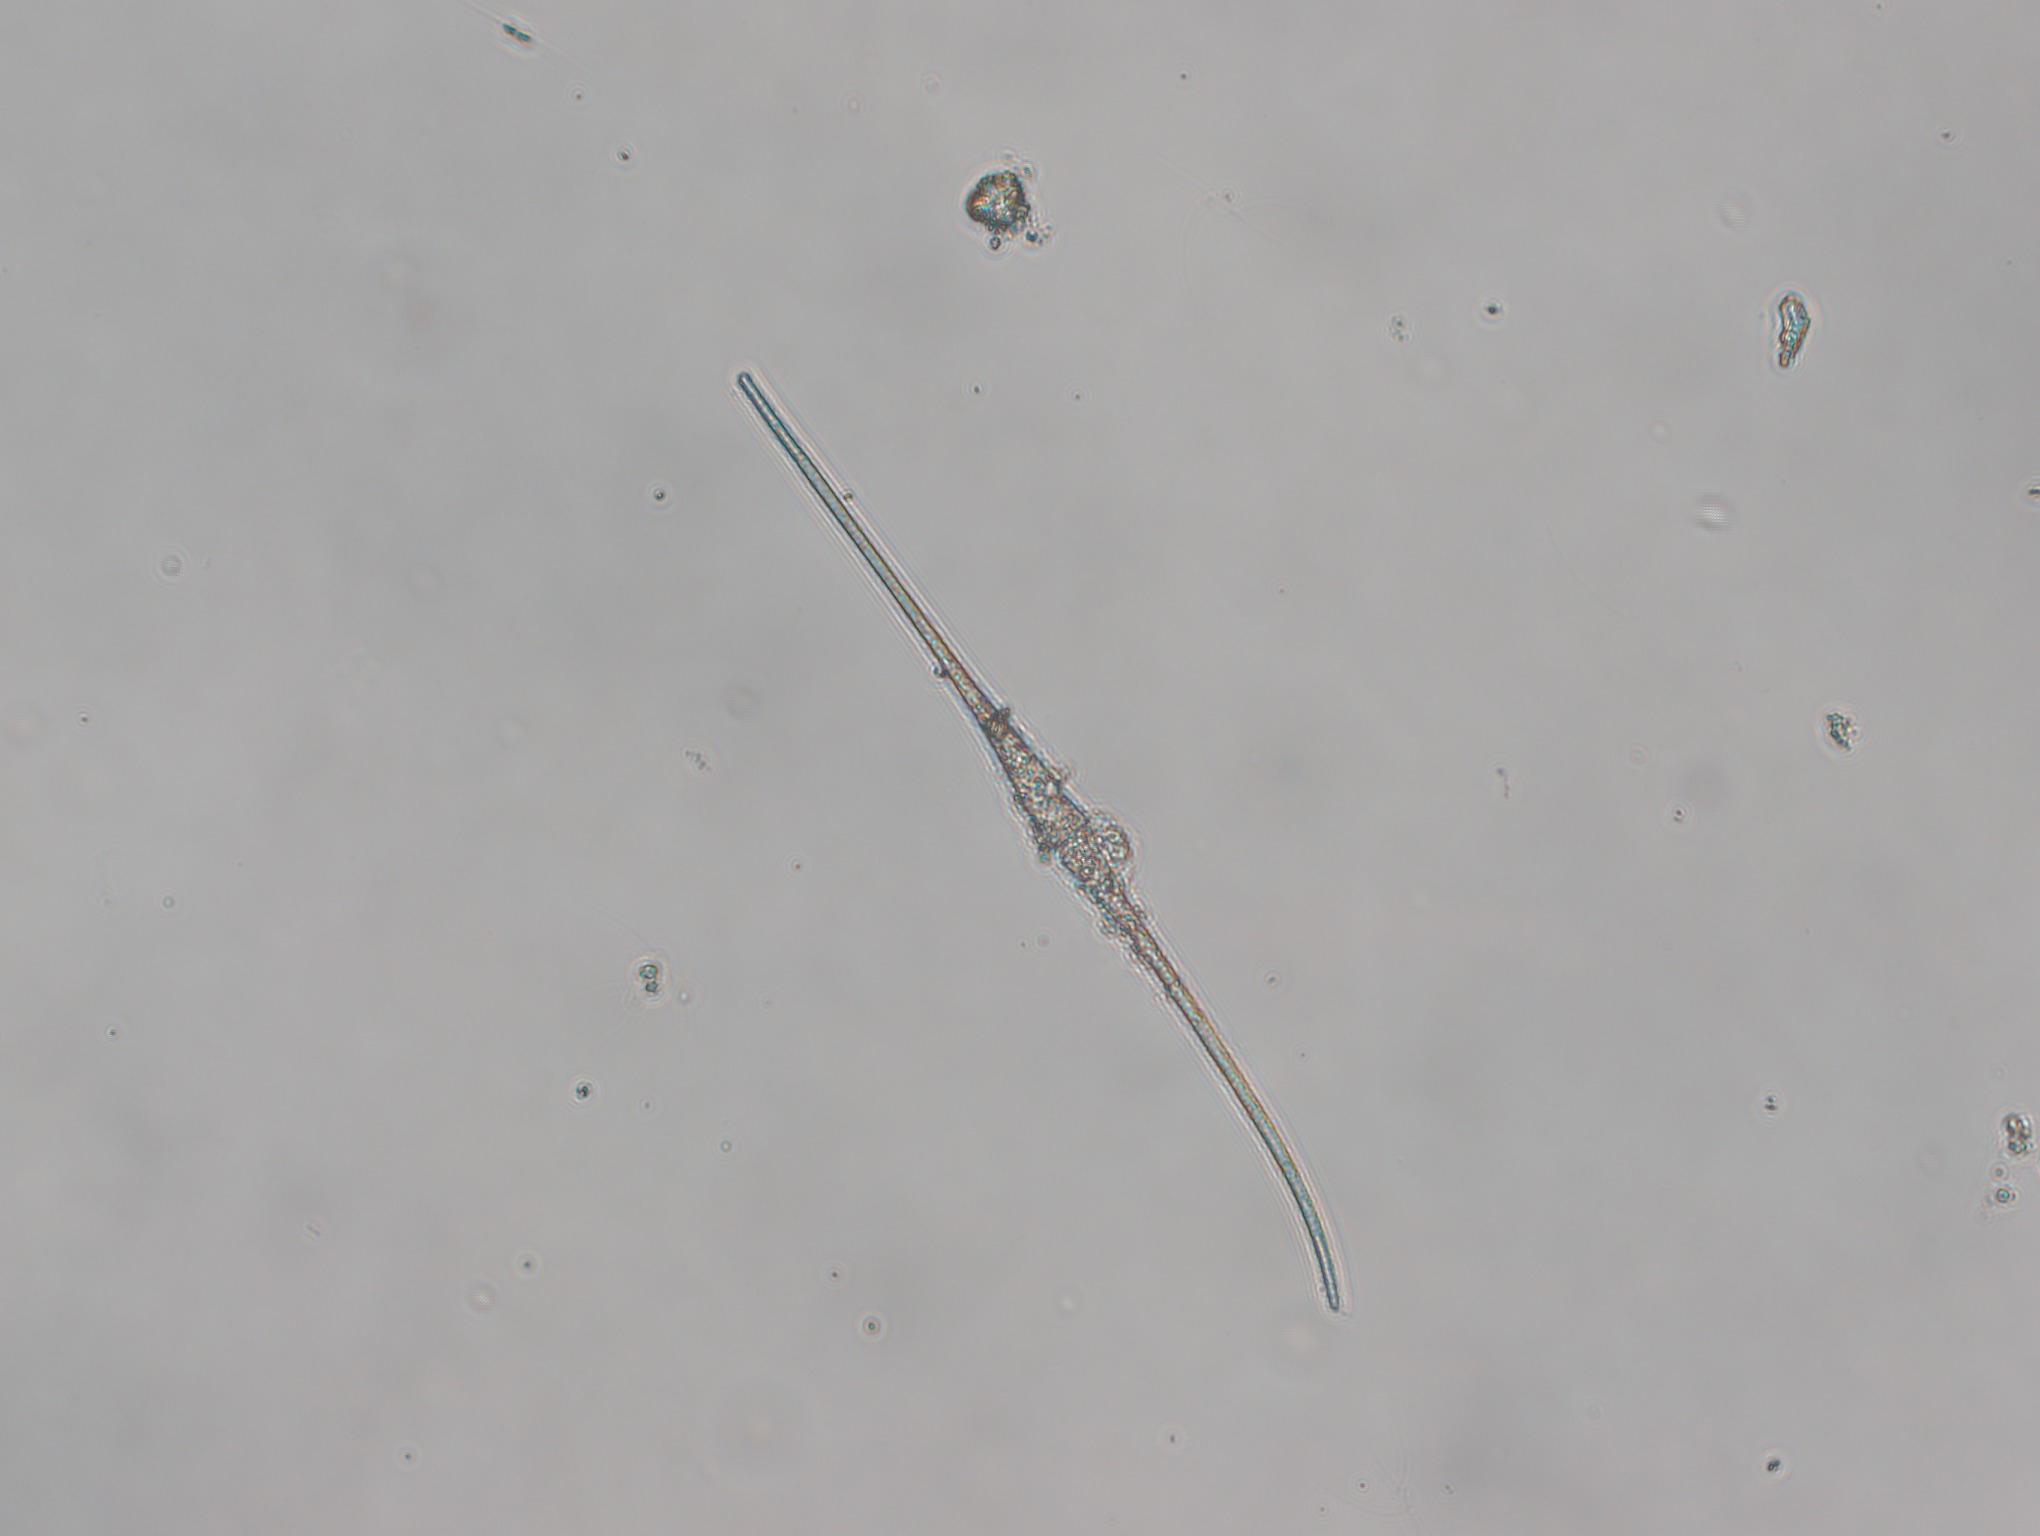ceratium fusus: (734, 365, 1347, 1312)
